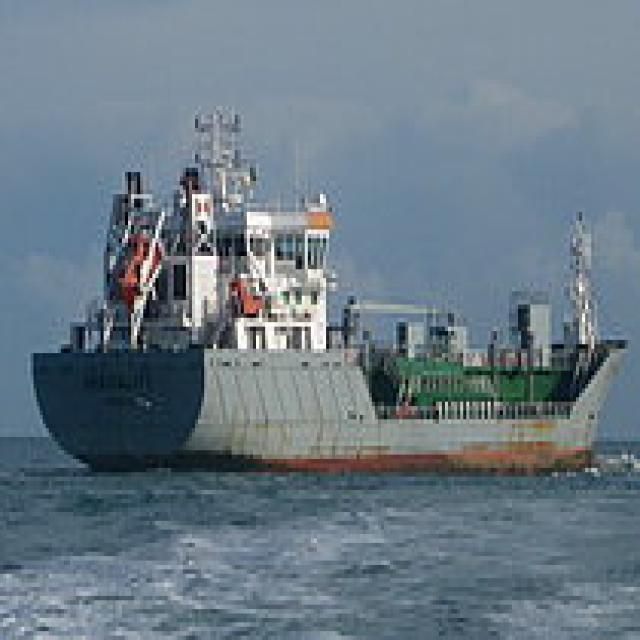Tanker: (27, 97, 628, 468)
